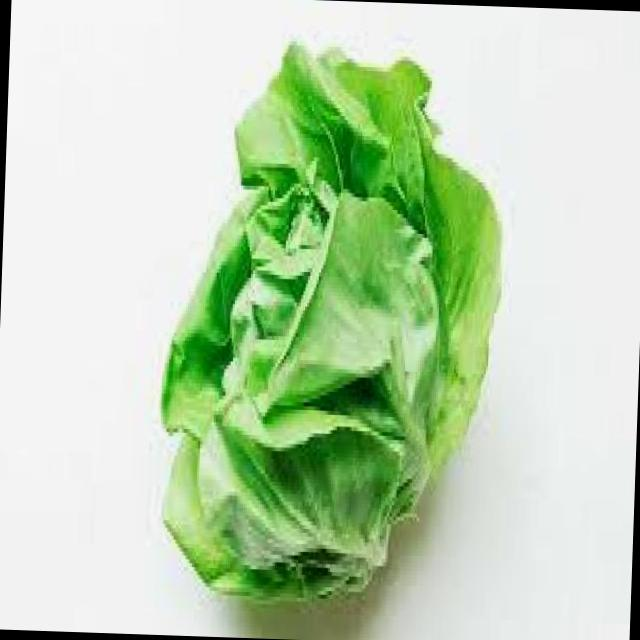Lettuce-Ready-to-Harvest: (162, 44, 500, 599)
